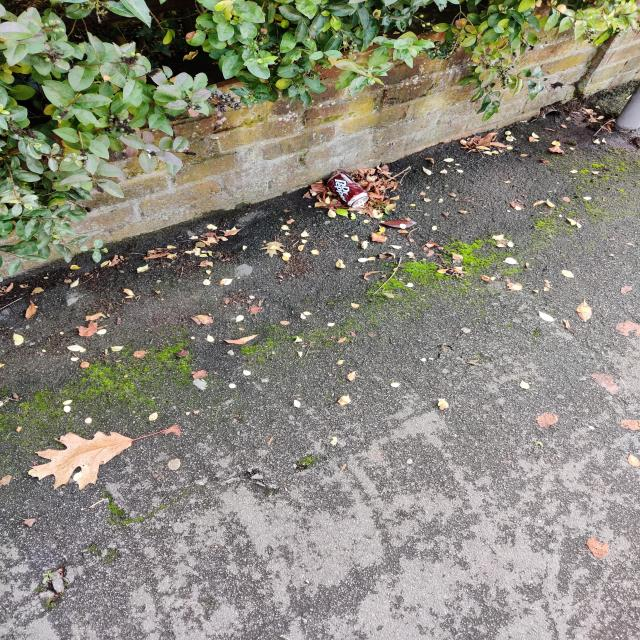litter: (324, 168, 369, 210)
